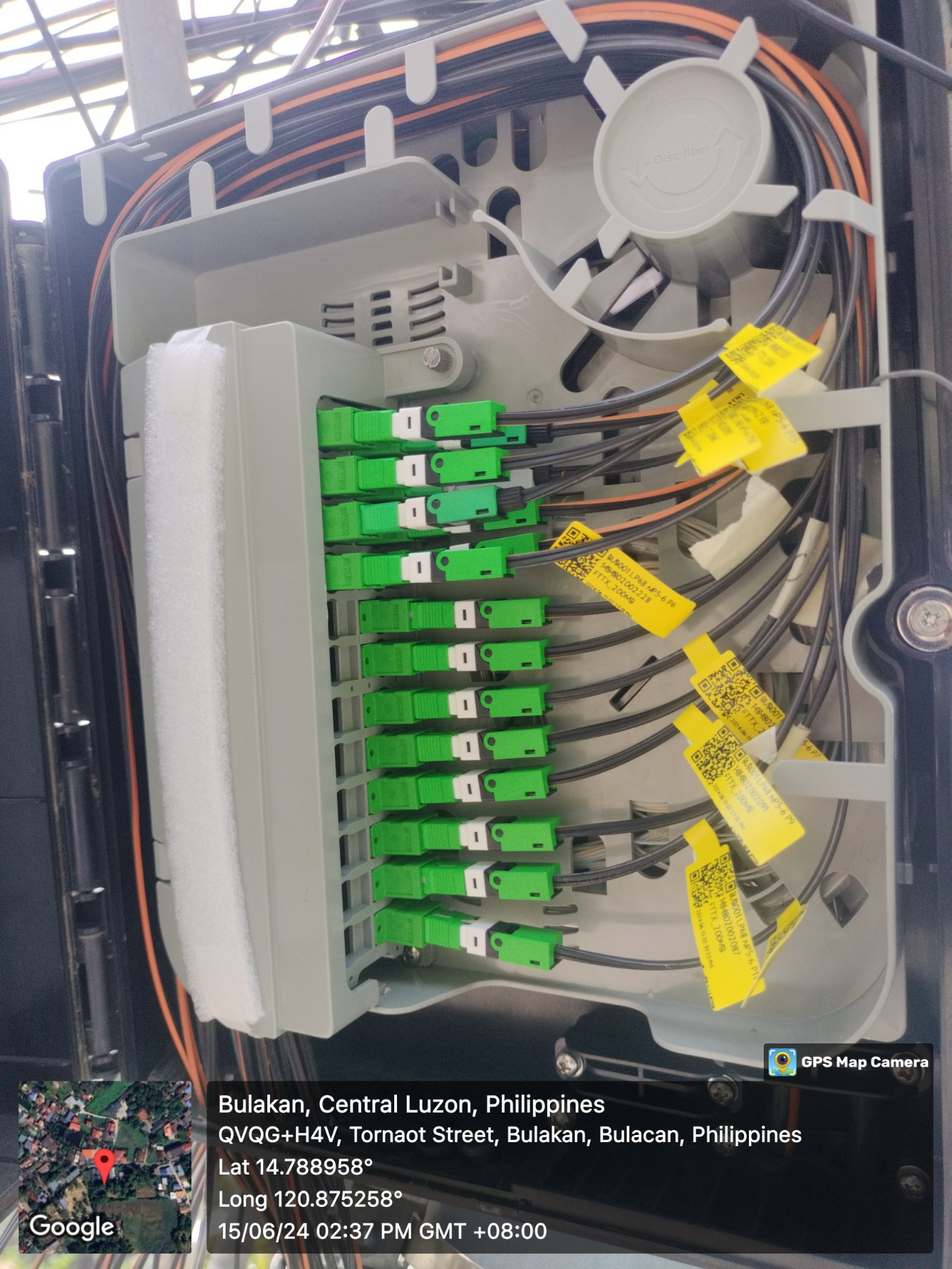no port: (339, 873, 373, 922), (342, 916, 373, 969), (332, 739, 365, 786), (335, 784, 368, 830), (337, 829, 369, 875), (328, 643, 365, 682), (329, 696, 365, 735), (324, 599, 360, 637)
occupied: (360, 478, 531, 541), (424, 907, 571, 971), (406, 530, 557, 586), (362, 541, 517, 592), (355, 399, 514, 447), (358, 447, 514, 495), (403, 495, 551, 543), (420, 857, 569, 902), (419, 813, 571, 857), (418, 763, 561, 806), (400, 417, 556, 455), (414, 681, 556, 722), (417, 723, 559, 763), (413, 637, 553, 675), (410, 597, 555, 633), (407, 464, 553, 497)
